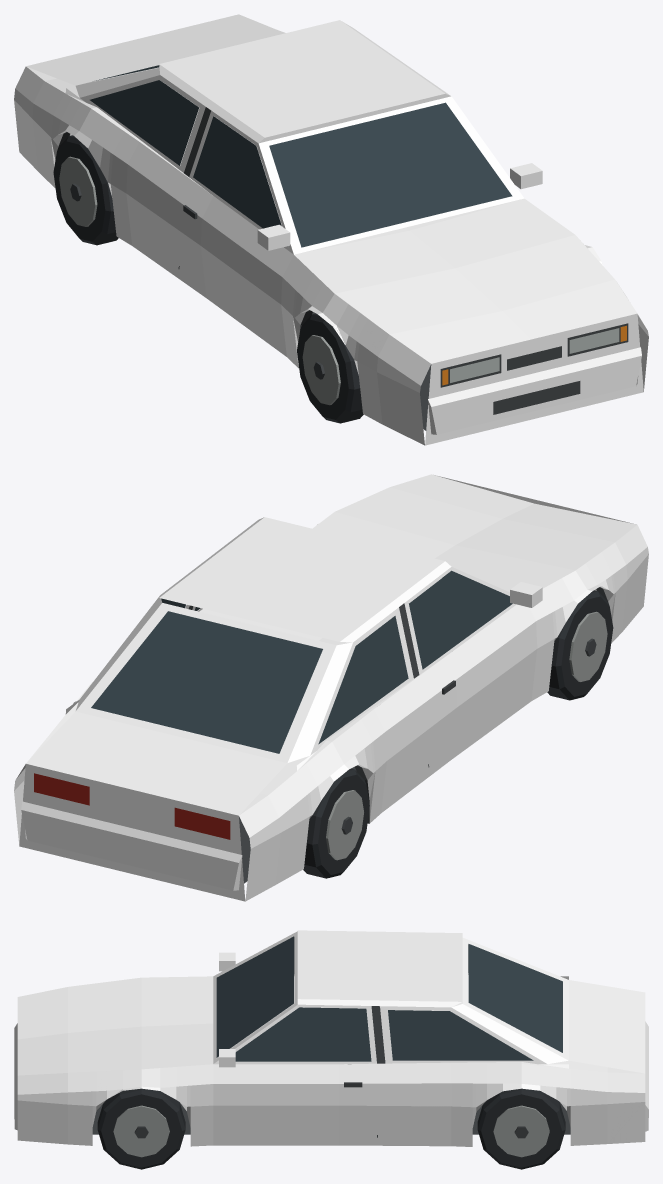
File: whitlock_cottonwood.glb
3 views of the same model, one above another, from view 1: azimuth 30°, elevation 25°; view 2: azimuth 150°, elevation 25°; view 3: azimuth 270°, elevation 25° (orthographic). The views are drawn at different scales.
Visible parts, largest first — view 1: whitlock_cottonwood; view 2: whitlock_cottonwood; view 3: whitlock_cottonwood.
Part boxes in pixels (bbox=[...]): whitlock_cottonwood: bbox=[14, 14, 648, 445]; whitlock_cottonwood: bbox=[14, 474, 648, 901]; whitlock_cottonwood: bbox=[14, 930, 648, 1169].
Size of the model in its own units: 1.76 by 1.22 by 4.51.
8 materials, 1 textured.
